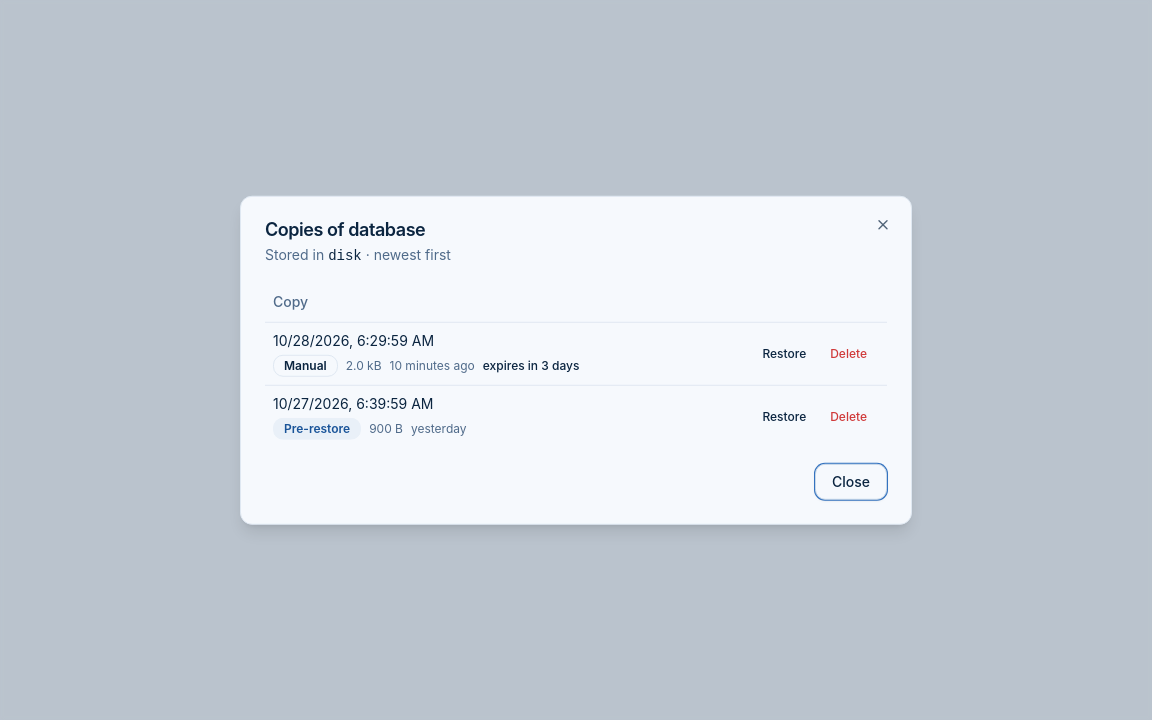
RestorePointsDialog › reports a failed restore and keeps the confirmation
This screenshot has width=1152, height=720.
Click the button "Restore" in the row of "10/27/2026, 6:39:59 AM".
click(784, 416)  # box [750,400,818,432]
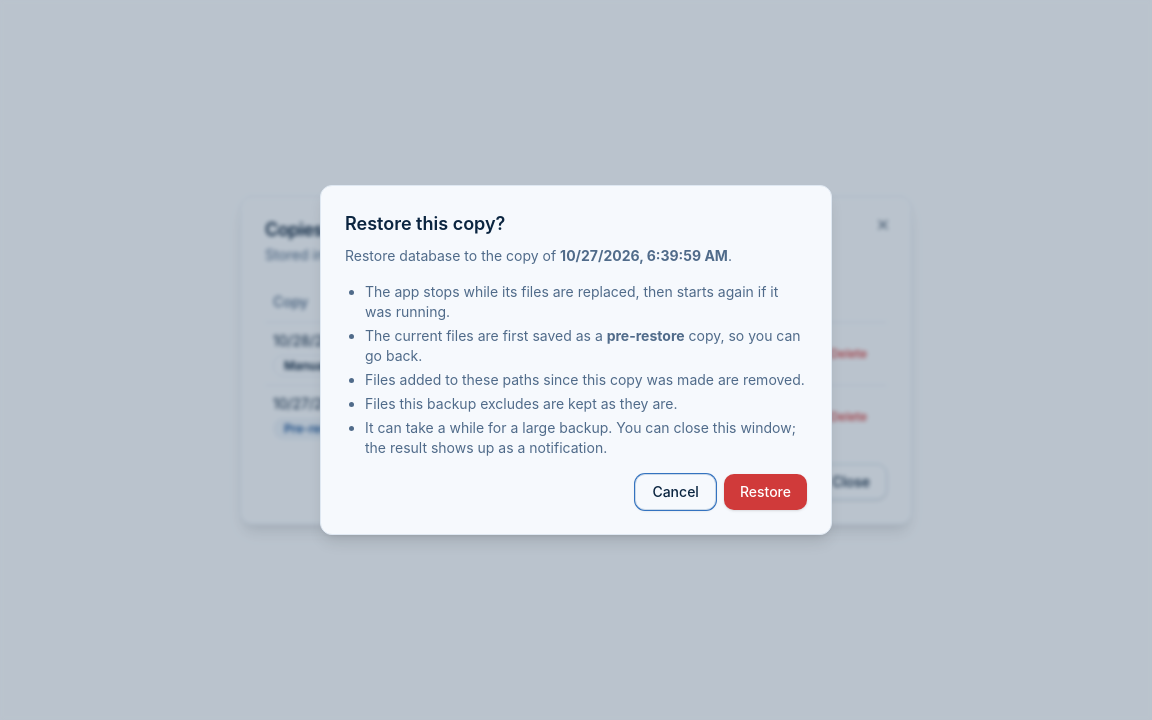
Check: the dialog that starts with "Restore this copy?" shows "while its files are replaced", box [320,185,832,535]
Check: the dialog that starts with "Restore this copy?" shows "Files this backup excludes are kept as they are.", box [365,395,678,412]
Check: the dialog that starts with "Restore this copy?" shows "Files added to these paths since this copy was made are removed.", box [365,371,805,388]
Click the button "Restore".
click(765, 492)  # box [724,474,807,510]
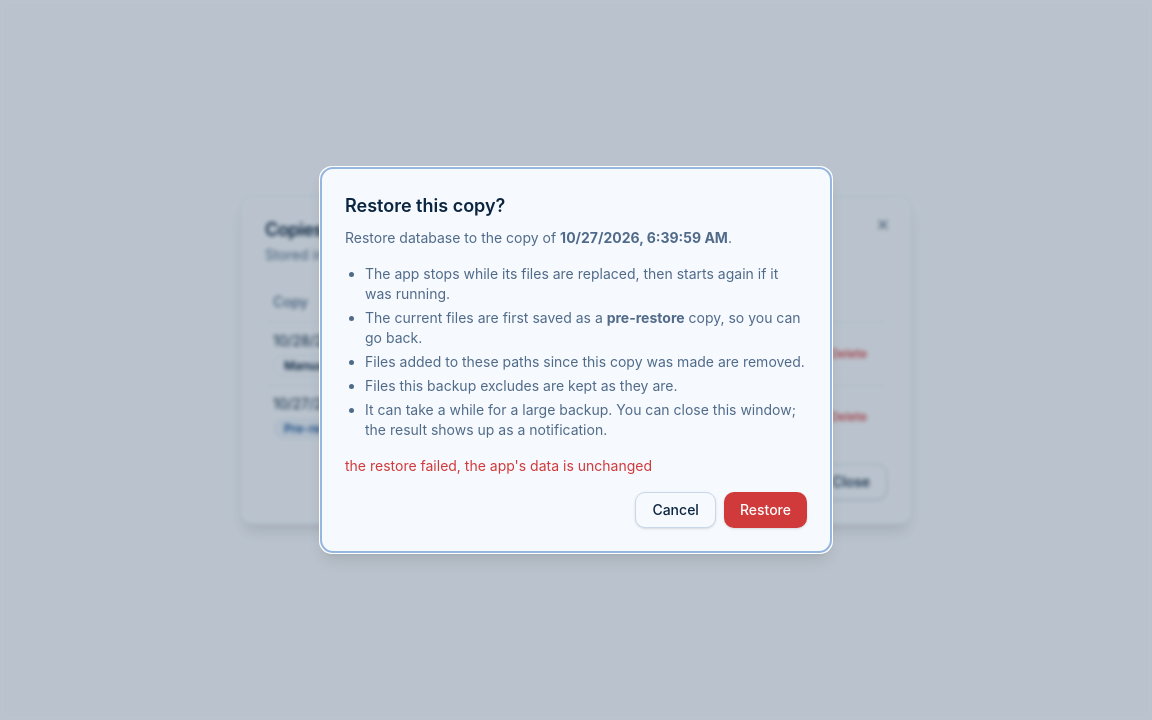
Check: the dialog that starts with "Restore this copy?" is shown, box [320,167,832,553]
Check: the message reads "the restore failed, the app's data is unchanged", box [345,457,652,474]
